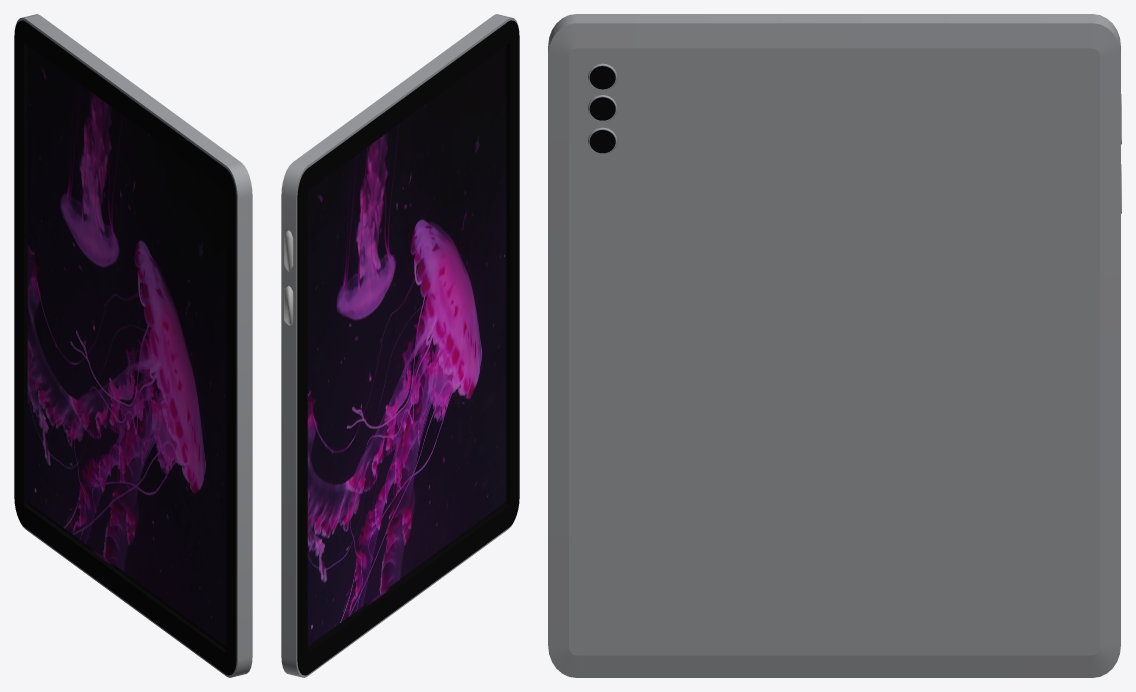
The model's file is ipad1.glb.
3 views of the same model, side by side, from view 1: azimuth 30°, elevation 25°; view 2: azimuth 150°, elevation 25°; view 3: azimuth 270°, elevation 25° (orthographic). The views are drawn at different scales.
Parts seen in each view (by area): view 1: Plane.001; view 2: Plane.001; view 3: Plane.001.
Part boxes in pixels (box(x1,y1,x2,y2)): Plane.001: box(14, 14, 252, 677); Plane.001: box(281, 14, 519, 677); Plane.001: box(548, 14, 1121, 677).
Bounding box in the file's own units: 0.1023 × 2.52 × 2.
5 materials, 1 textured.
